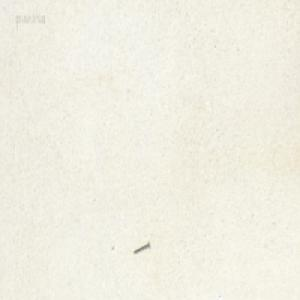Bolt: (132, 242, 149, 255)
